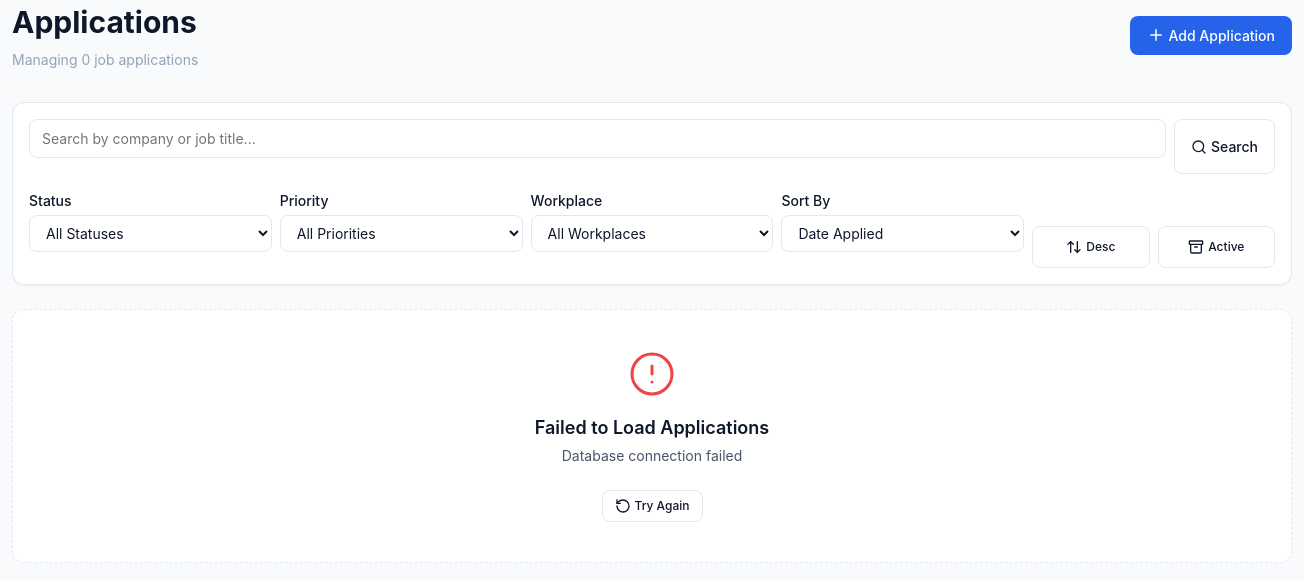
Test: ApplicationsPage Component (Phase 6.5D) › 10. renders ErrorState with retry button when API fails
This screenshot has width=1304, height=580.
Check: the heading "Failed to Load Applications" is shown, box [535, 414, 769, 441]
Check: the text "Database connection failed" is shown, box [562, 445, 742, 466]
Click the button "Try Again" at (652, 506), box [602, 490, 702, 522]
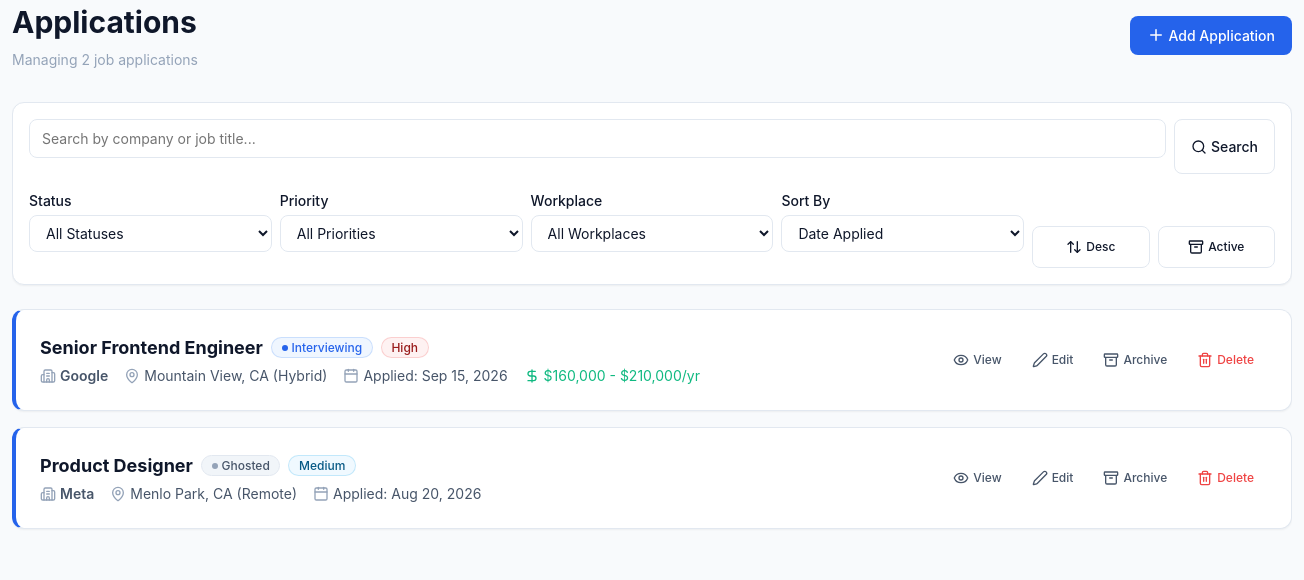
Check: the text "Google" is shown, box [40, 365, 108, 386]
